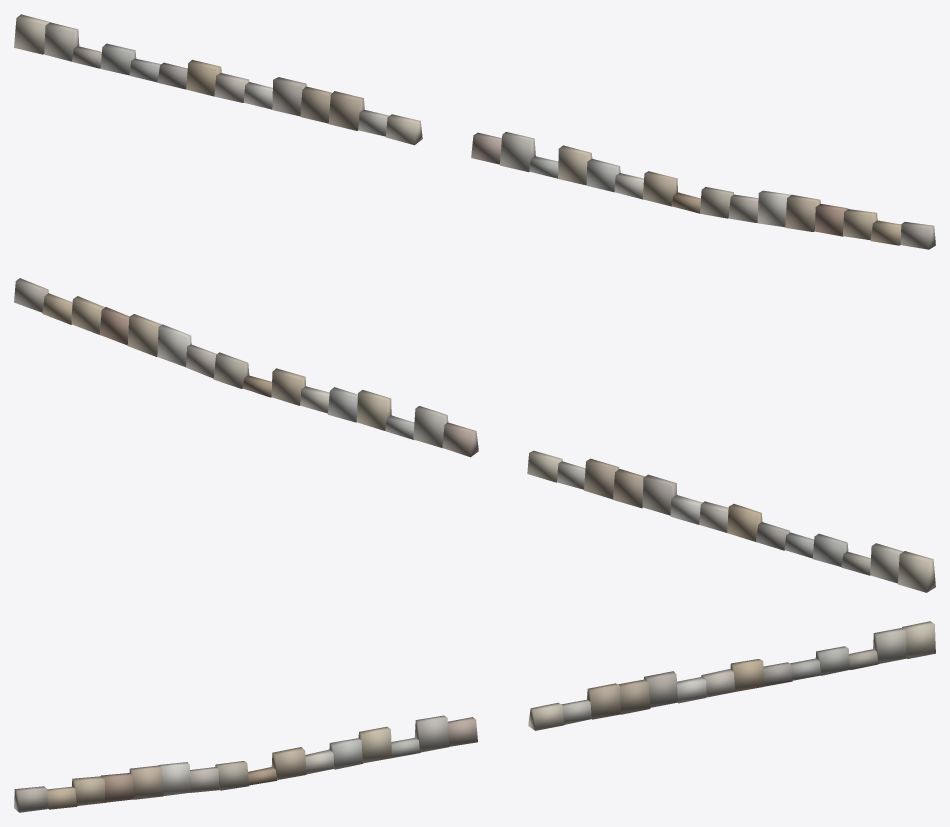
File: farm_-35_-33_far.glb
The picture shows the model from 3 angles, top to bottom: view 1: azimuth 30°, elevation 25°; view 2: azimuth 210°, elevation 25°; view 3: azimuth 270°, elevation 25°; orthographic projection. The views are drawn at different scales.
Visible parts, largest first — view 1: geometry_0; view 2: geometry_0; view 3: geometry_0.
Boxes of the visible parts, x1=… form: geometry_0: x1=14, y1=14, x2=935, y2=249; geometry_0: x1=14, y1=278, x2=935, y2=592; geometry_0: x1=14, y1=621, x2=935, y2=812.
Bounding box in the file's own units: 23.67 × 3.29 × 44.61.
